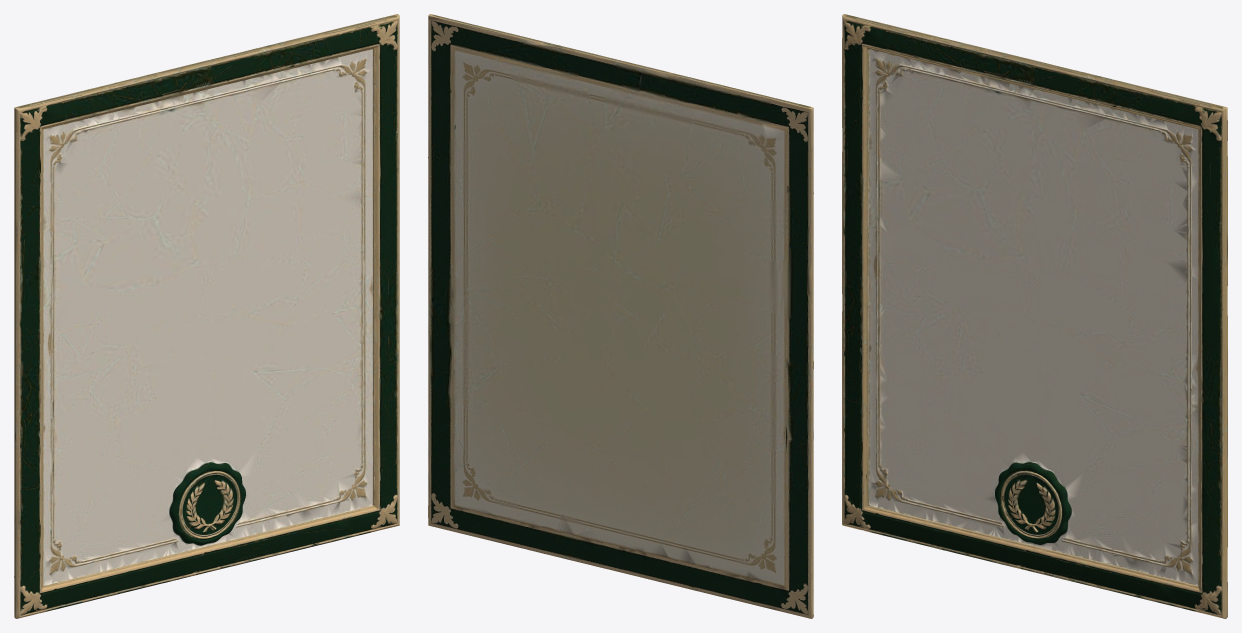
File: certificate.glb
3 renders of one model, left to right at view 1: azimuth 30°, elevation 25°; view 2: azimuth 150°, elevation 25°; view 3: azimuth 330°, elevation 25°, orthographic.
Size of the model in its own units: 1.5 by 1.9 by 0.0352.
Materials: 1 (1 with a texture image).
